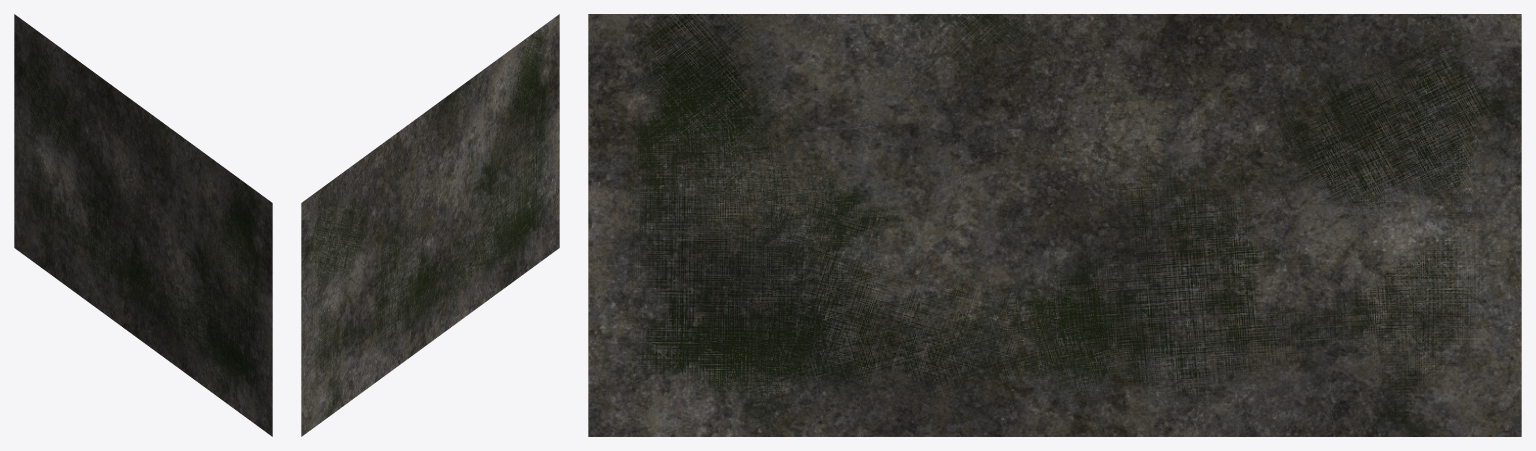
File: underground_floor_half_straight.fbx
3 views of the same model, side by side, from view 1: azimuth 30°, elevation 25°; view 2: azimuth 150°, elevation 25°; view 3: azimuth 270°, elevation 25° (orthographic). The views are drawn at different scales.
Visible parts, largest first — view 1: underground_floor_half_straight; view 2: underground_floor_half_straight; view 3: underground_floor_half_straight.
Part boxes in pixels (x1,y1,x2,y2): underground_floor_half_straight: [14, 14, 272, 436]; underground_floor_half_straight: [301, 14, 559, 436]; underground_floor_half_straight: [588, 14, 1521, 436].
Size of the model in its own units: 0.000145 by 165 by 330.
Materials: 1 (1 with a texture image).
